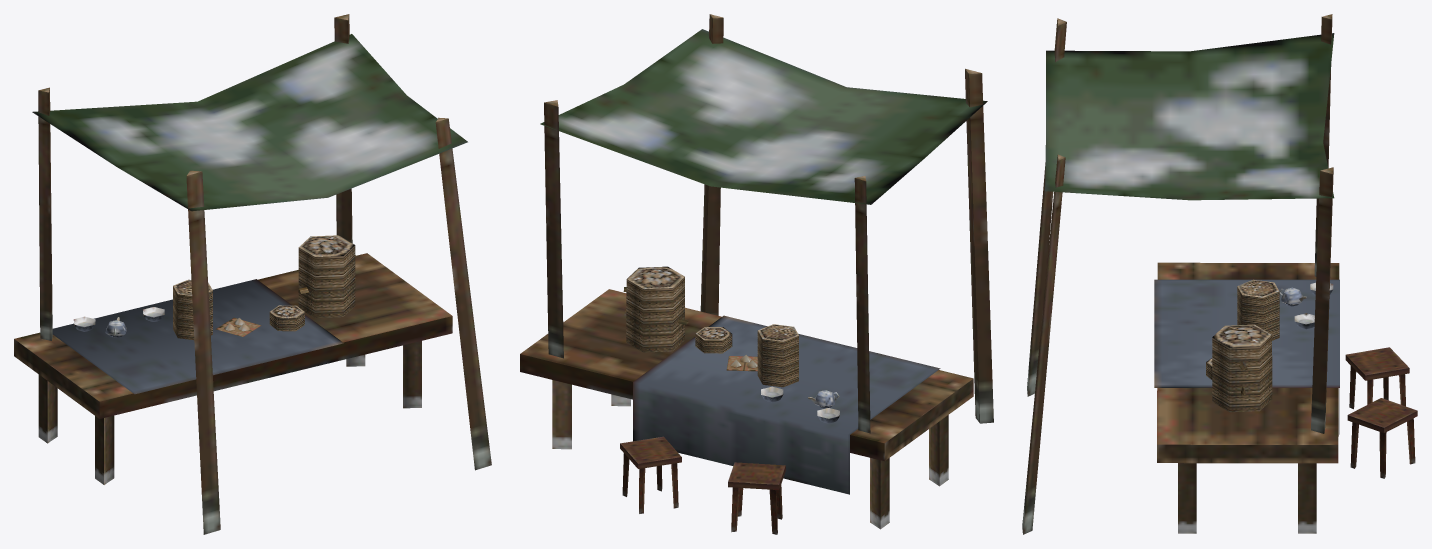
Rendered from oMscTanwei01C.FBX.
The picture shows the model from 3 angles, left to right: view 1: azimuth 30°, elevation 25°; view 2: azimuth 150°, elevation 25°; view 3: azimuth 270°, elevation 25°; orthographic projection. The views are drawn at different scales.
Parts seen in each view (by area): view 1: oMscTanwei01C; view 2: oMscTanwei01C; view 3: oMscTanwei01C.
Boxes of the visible parts, <box> form: oMscTanwei01C: <box>14,14,491,534</box>; oMscTanwei01C: <box>520,14,993,534</box>; oMscTanwei01C: <box>1022,14,1417,534</box>.
Bounding box in the file's own units: 24.49 × 23.17 × 22.48.
1 material, 1 textured.
